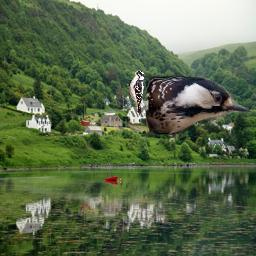Woodpecker: (146, 71, 252, 137), (127, 69, 145, 115)
